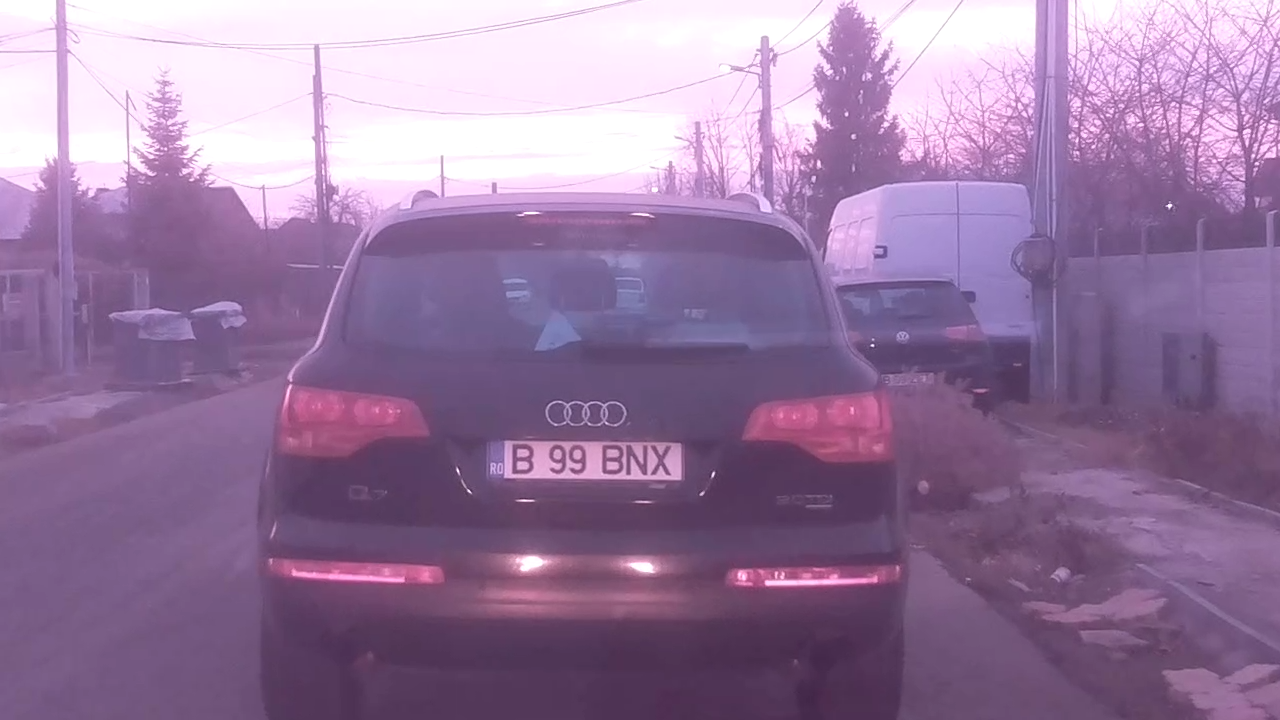license-plate: (477, 434, 694, 487)
